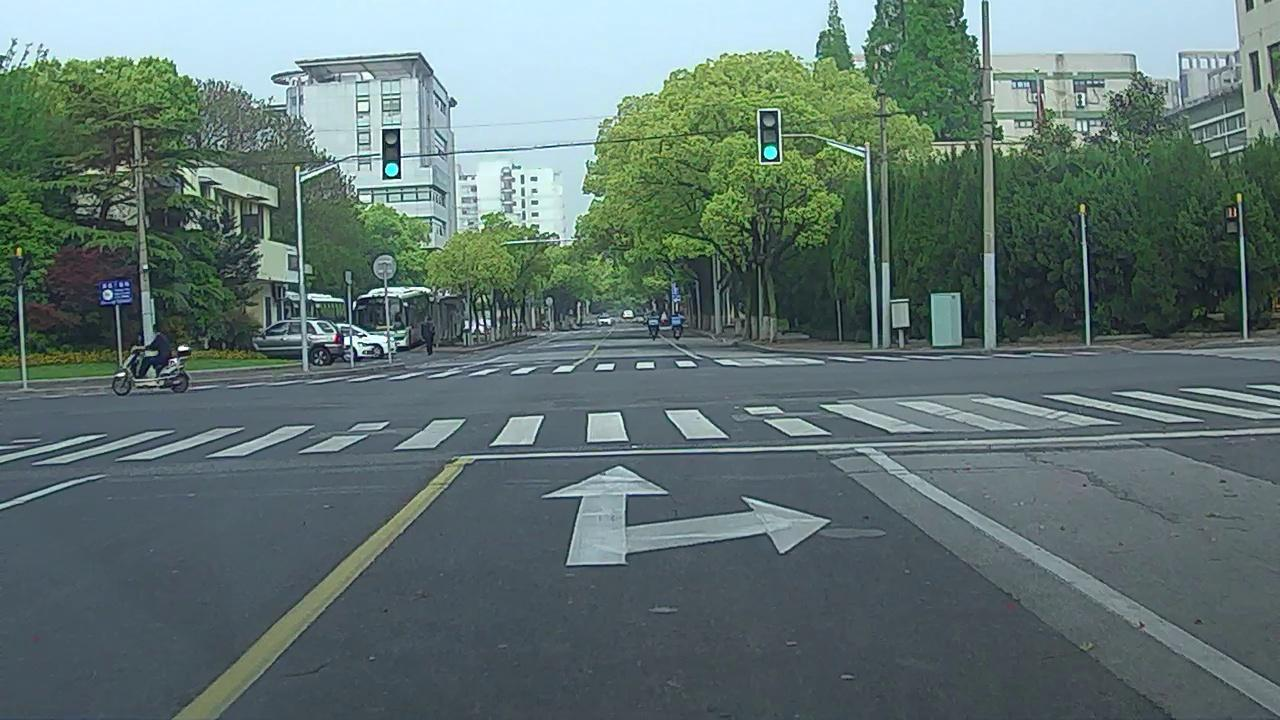traffic_light: (760, 110, 781, 163), (383, 129, 401, 178)
